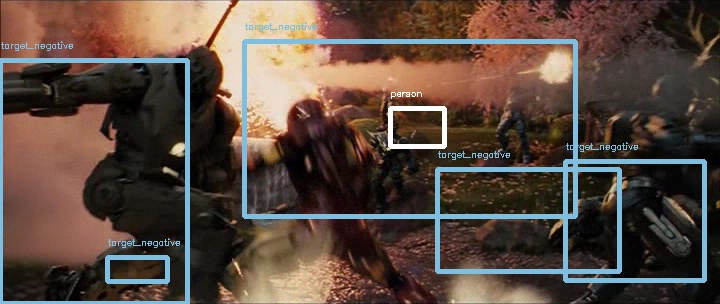person: (287, 102, 329, 139), (286, 102, 328, 139), (288, 102, 330, 139), (287, 101, 329, 138), (287, 103, 329, 140)
target_negative: (90, 128, 652, 255), (296, 14, 588, 94), (194, 119, 513, 167), (85, 292, 420, 304), (160, 195, 202, 268), (319, 298, 656, 301)
